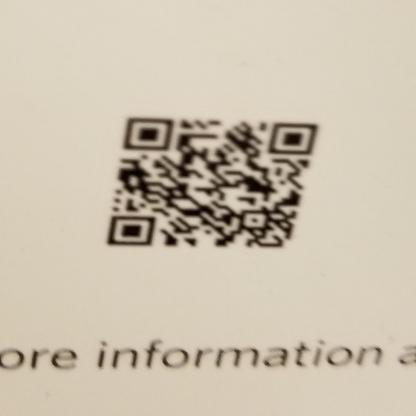qr: (104, 112, 322, 256)
